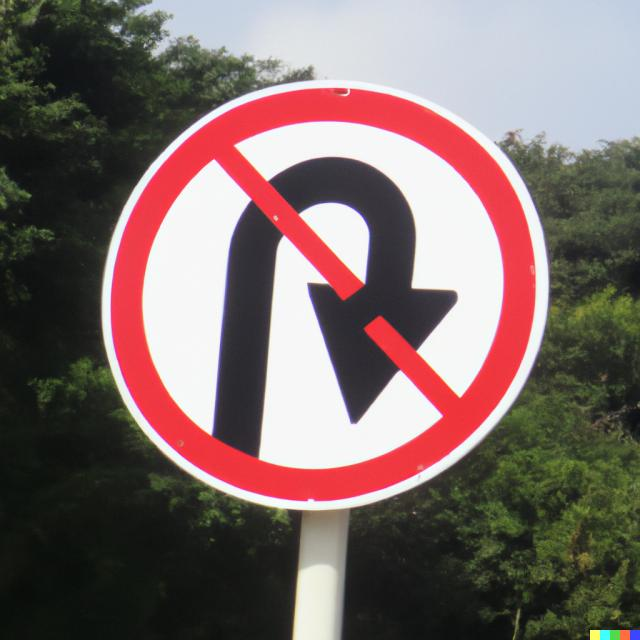no u turn: (97, 74, 561, 510)
